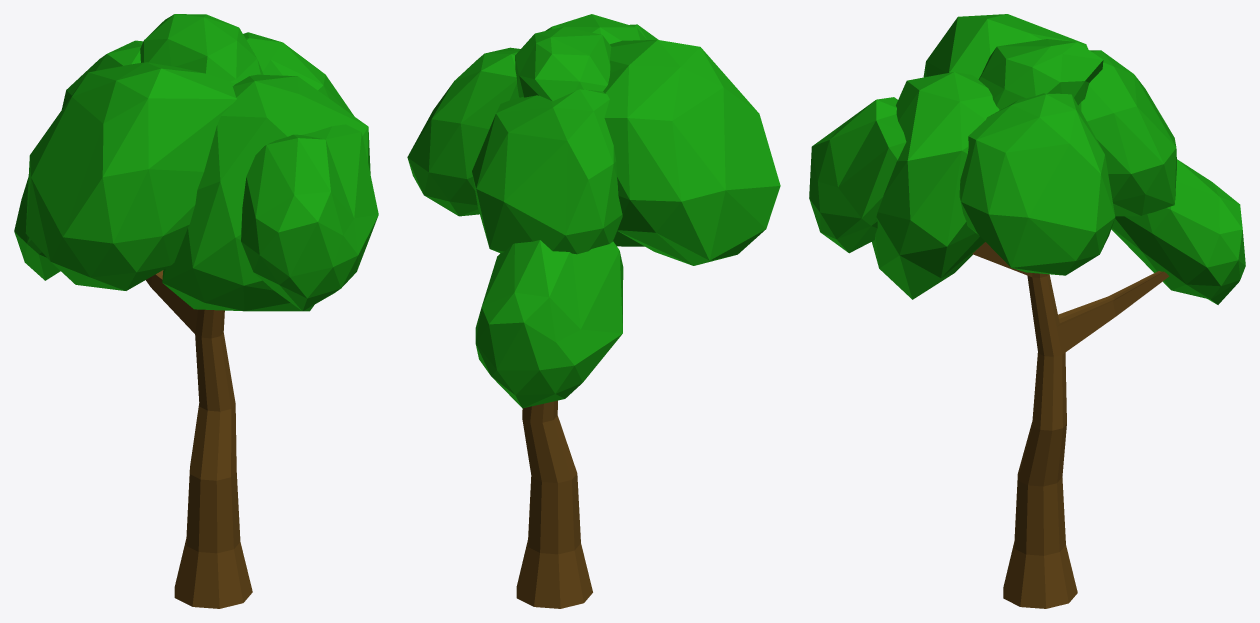
The model's file is tree1.fbx.
3 renders of one model, left to right at view 1: azimuth 30°, elevation 25°; view 2: azimuth 150°, elevation 25°; view 3: azimuth 270°, elevation 25°, orthographic. The views are drawn at different scales.
Visible parts, largest first — view 1: Cylinder; view 2: Cylinder; view 3: Cylinder.
Boxes of the visible parts, <box> form: Cylinder: <box>14,14,378,608</box>; Cylinder: <box>407,14,780,608</box>; Cylinder: <box>809,14,1245,608</box>.
Bounding box in the file's own units: 1326 × 2264 × 1643.
